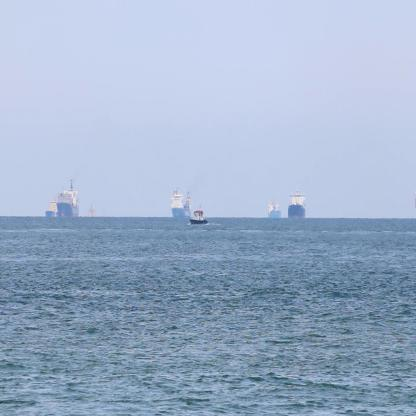Container Ship: (58, 178, 80, 221), (286, 184, 308, 224), (171, 187, 193, 223), (190, 201, 210, 230), (266, 200, 282, 224), (44, 196, 58, 221), (86, 202, 97, 221)
